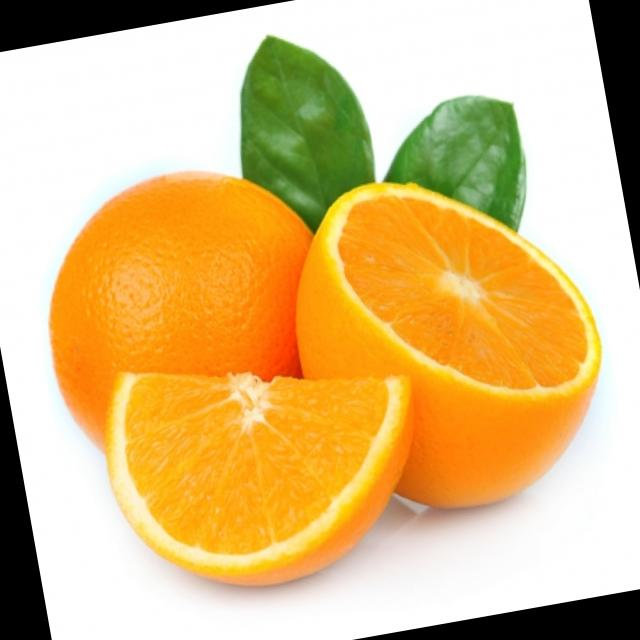orange: (17, 142, 367, 516)
